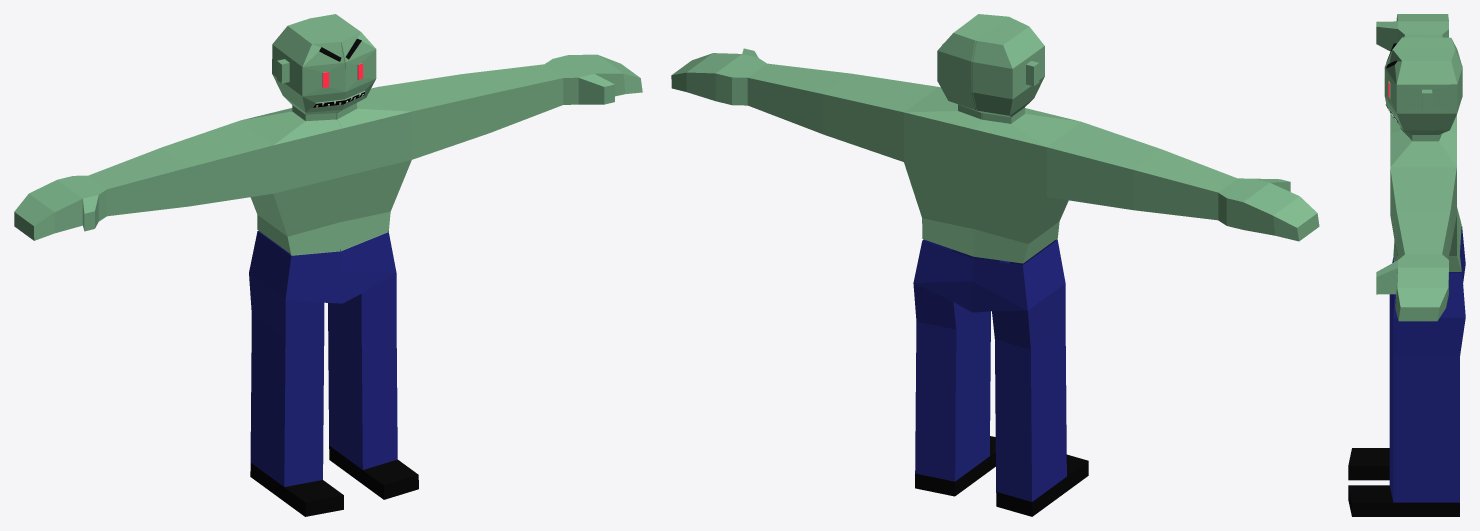
File: zombie model.fbx
3 views of the same model, side by side, from view 1: azimuth 30°, elevation 25°; view 2: azimuth 150°, elevation 25°; view 3: azimuth 270°, elevation 25° (orthographic). The views are drawn at different scales.
Parts seen in each view (by area): view 1: Cube; view 2: Cube; view 3: Cube.
Boxes of the visible parts, x1,y1,x2,y2 form: Cube: (14, 14, 642, 516); Cube: (671, 14, 1319, 516); Cube: (1348, 14, 1465, 516).
Size of the model in its own units: 879 by 616 by 149.
